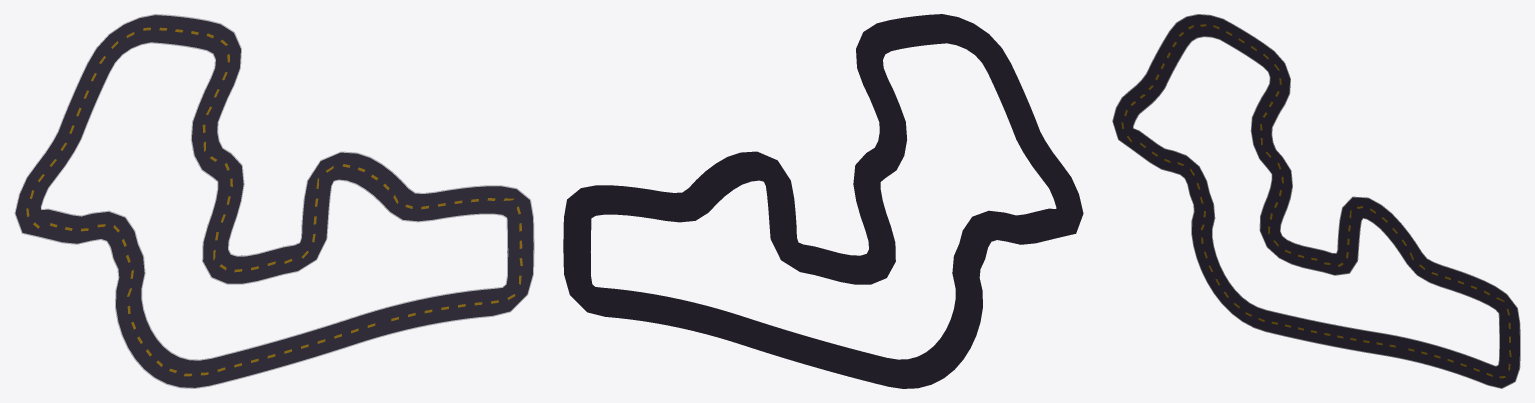
Rendered from track.obj.
3 renders of one model, left to right at view 1: azimuth 30°, elevation 25°; view 2: azimuth 150°, elevation 25°; view 3: azimuth 330°, elevation 25°, orthographic. The views are drawn at different scales.
Bounding box in the file's own units: 20.26 × 14.4 × 0.002.
